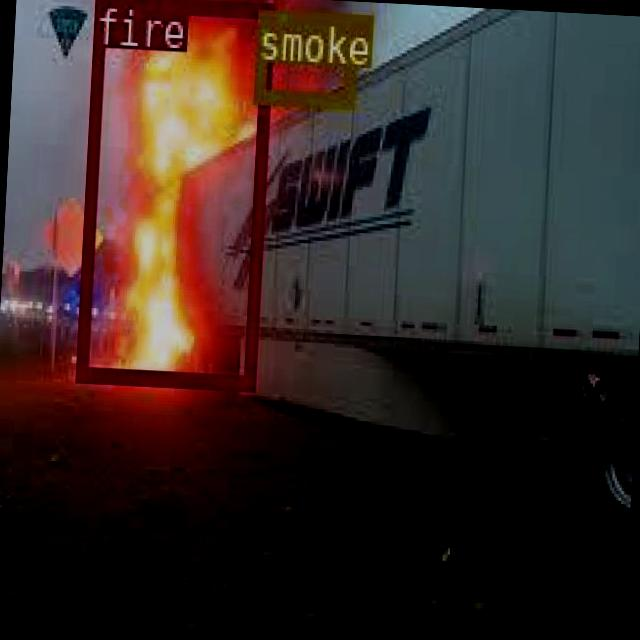fire: (74, 0, 273, 387)
smoke: (252, 8, 356, 105)
